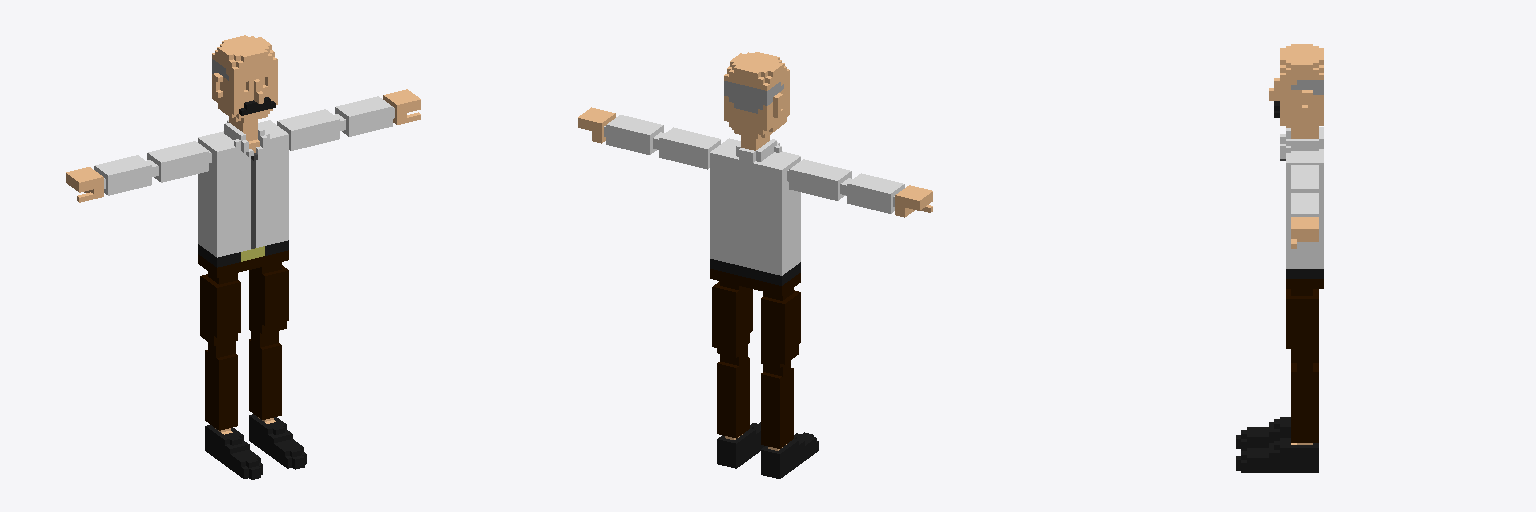
3 views of the same model, side by side, from view 1: azimuth 30°, elevation 25°; view 2: azimuth 150°, elevation 25°; view 3: azimuth 270°, elevation 25° (orthographic).
Visible parts, largest first — view 1: drunk; view 2: drunk; view 3: drunk.
Boxes of the visible parts, x1,y1,x2,y2 form: drunk: [66, 35, 420, 479]; drunk: [578, 52, 932, 478]; drunk: [1236, 44, 1323, 472].
Size of the model in its own units: 71 by 80 by 16.
Materials: 1 (1 with a texture image).